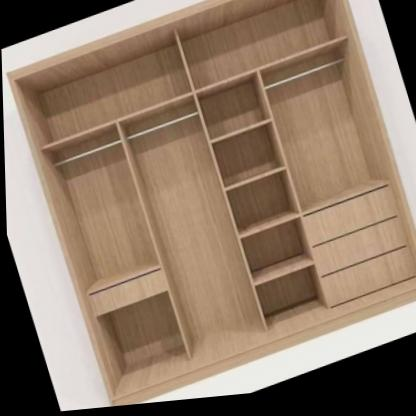Transparent Closet: (7, 0, 416, 409)
